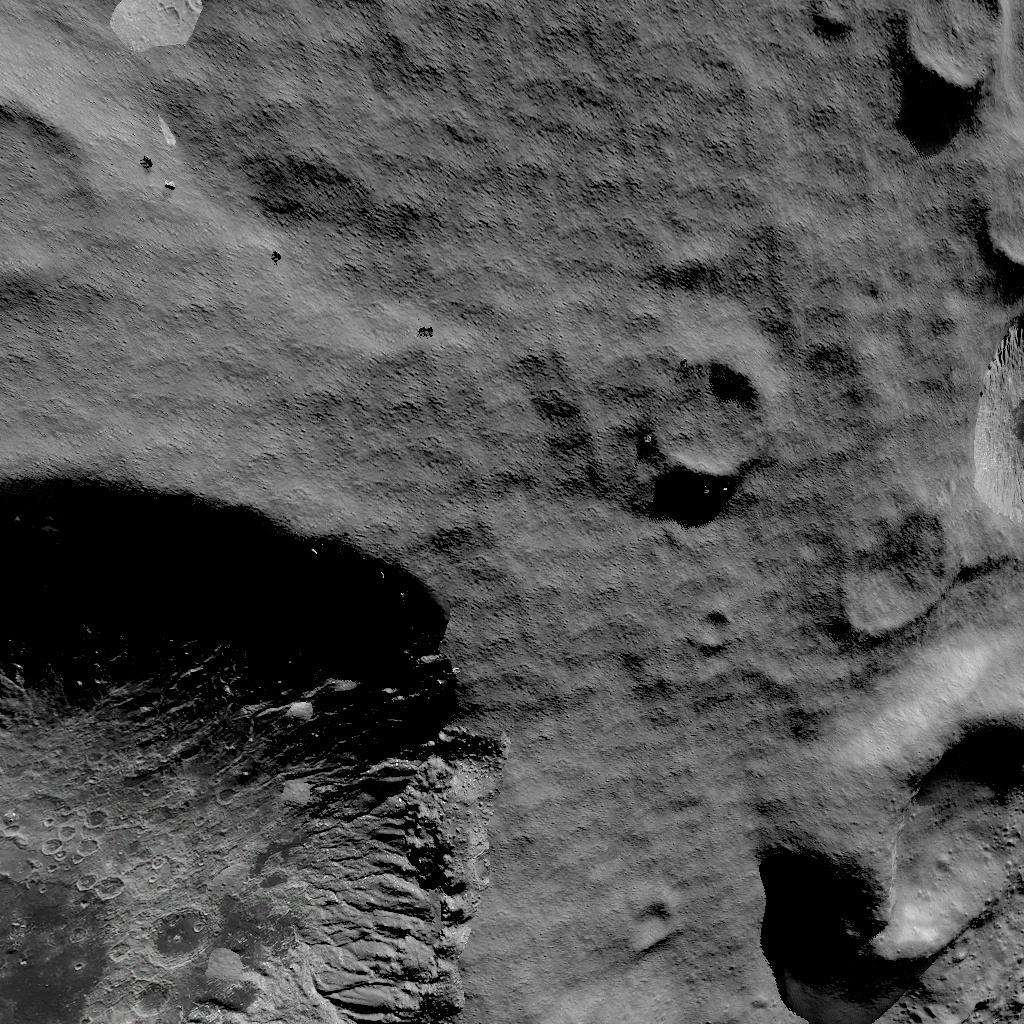Boulders: (115, 0, 211, 78)
Crater: (0, 472, 509, 1024), (773, 684, 1024, 1024), (813, 319, 1024, 652), (0, 108, 117, 313), (635, 350, 778, 487), (895, 0, 1021, 124), (963, 156, 1024, 289), (801, 2, 856, 56)
Plan surface: (139, 100, 613, 456), (631, 98, 871, 297)
